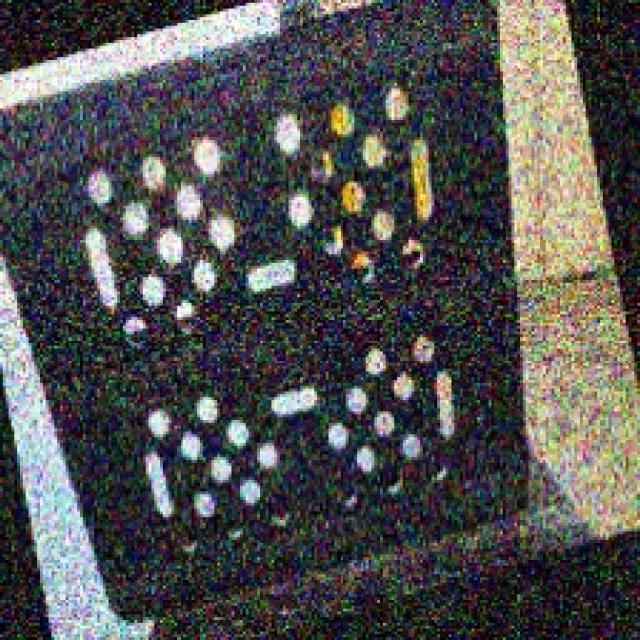igps: (0, 0, 534, 628)
